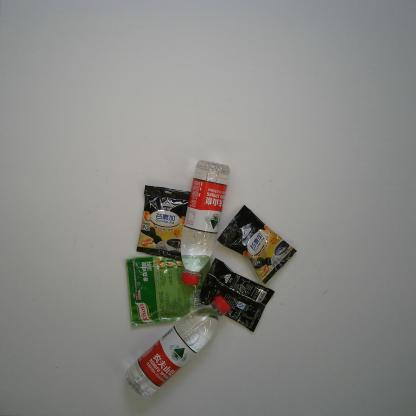Drink: (124, 295, 232, 398), (180, 159, 230, 285)
Instant Drink: (216, 204, 298, 284), (199, 256, 276, 332), (136, 184, 192, 259)
Seasoner: (125, 254, 219, 328)
